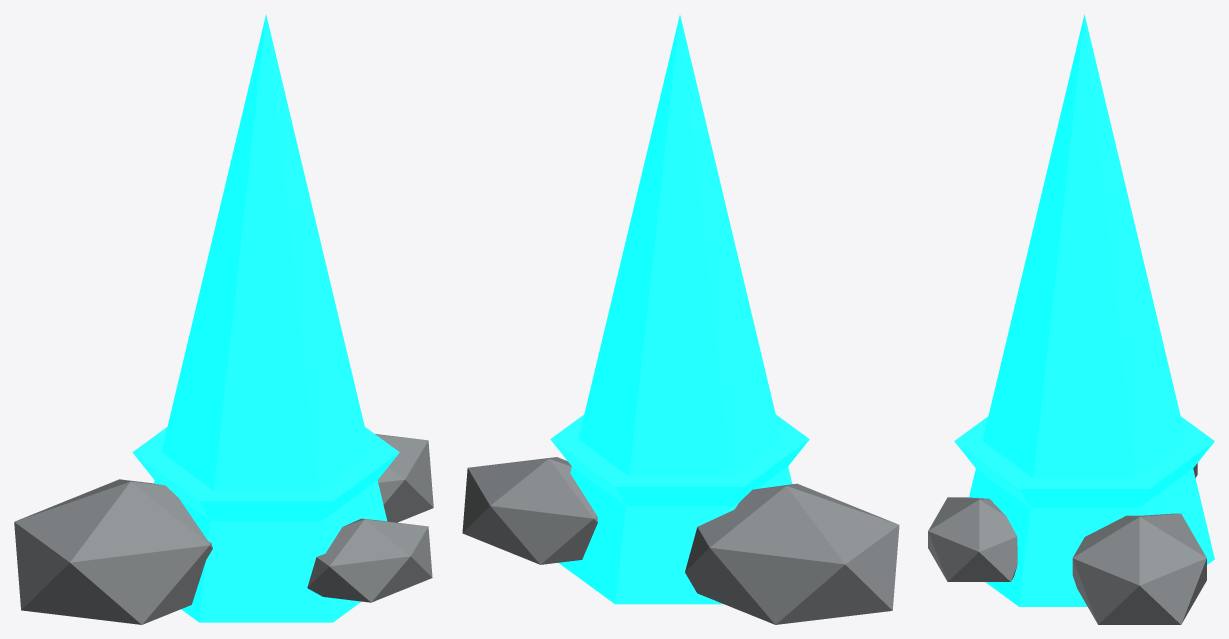
The model's file is rift_crystal_v1.glb.
3 views of the same model, side by side, from view 1: azimuth 30°, elevation 25°; view 2: azimuth 150°, elevation 25°; view 3: azimuth 270°, elevation 25° (orthographic). The views are drawn at different scales.
Parts seen in each view (by area): view 1: Crystal_Main, Crystal_Rock_0, Crystal_Base, Crystal_Rock_2, Crystal_Rock_1; view 2: Crystal_Main, Crystal_Rock_0, Crystal_Rock_1, Crystal_Base; view 3: Crystal_Main, Crystal_Rock_1, Crystal_Base, Crystal_Rock_2.
Boxes of the visible parts, x1,y1,x2,y2 form: Crystal_Main: (154, 14, 387, 622); Crystal_Rock_0: (14, 479, 212, 624); Crystal_Base: (132, 427, 399, 521); Crystal_Rock_2: (307, 518, 432, 602); Crystal_Rock_1: (375, 434, 433, 522); Crystal_Main: (558, 15, 792, 604); Crystal_Rock_0: (685, 483, 899, 624); Crystal_Rock_1: (462, 457, 597, 564); Crystal_Base: (550, 414, 809, 505); Crystal_Main: (969, 14, 1214, 606); Crystal_Rock_1: (1072, 513, 1206, 624); Crystal_Base: (954, 416, 1214, 508); Crystal_Rock_2: (928, 497, 1017, 581).
Size of the model in its own units: 1.9 by 2.6 by 1.14.
